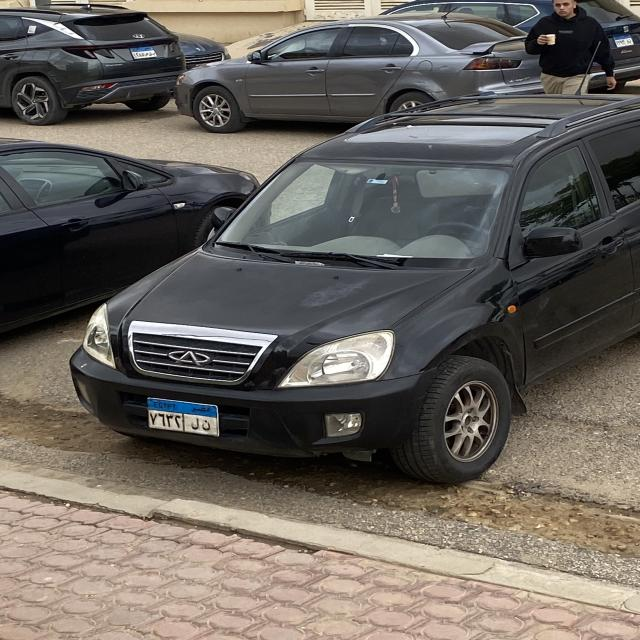License Plate: (147, 397, 220, 437), (130, 46, 157, 59), (613, 34, 634, 47)
